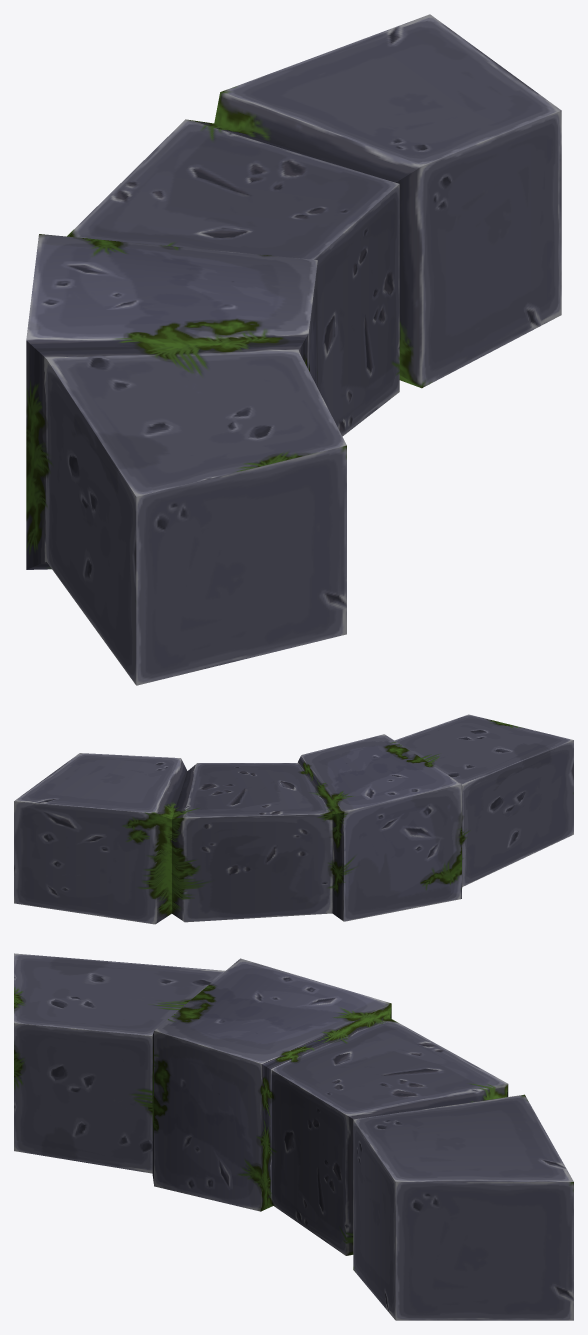
File: MOD_WallCover_01_M_concave_2.fbx
3 renders of one model, top to bottom at view 1: azimuth 30°, elevation 25°; view 2: azimuth 150°, elevation 25°; view 3: azimuth 270°, elevation 25°, orthographic. The views are drawn at different scales.
Visible parts, largest first — view 1: MOD_WallCover_01_M_concave_2; view 2: MOD_WallCover_01_M_concave_2; view 3: MOD_WallCover_01_M_concave_2.
Part boxes in pixels (x1,y1,x2,y2): MOD_WallCover_01_M_concave_2: (26, 14, 561, 685); MOD_WallCover_01_M_concave_2: (14, 714, 573, 924); MOD_WallCover_01_M_concave_2: (14, 953, 573, 1320).
Size of what is drawn, in the model's own units: 235 by 72.97 by 238.
